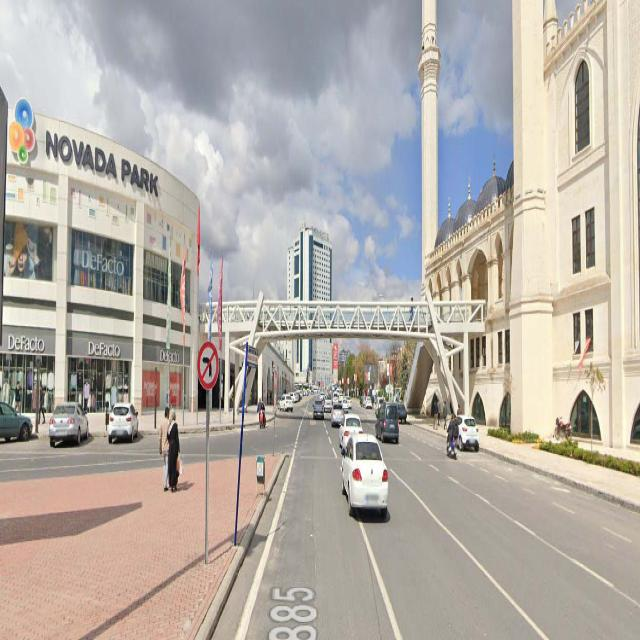soladonulmez: (198, 344, 219, 384)
